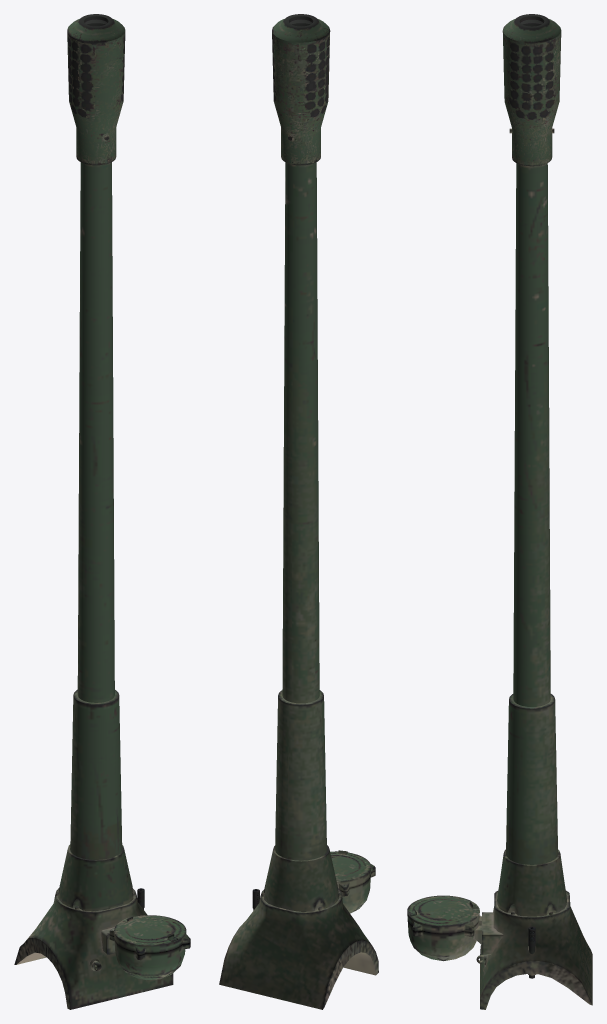
File: Gun_01.glb
3 renders of one model, left to right at view 1: azimuth 30°, elevation 25°; view 2: azimuth 150°, elevation 25°; view 3: azimuth 270°, elevation 25°, orthographic.
Parts seen in each view (by area): view 1: set_0_group_0; view 2: set_0_group_0; view 3: set_0_group_0.
Part boxes in pixels (x1=…): set_0_group_0: x1=14, y1=14, x2=190, y2=1009; set_0_group_0: x1=219, y1=14, x2=378, y2=1009; set_0_group_0: x1=407, y1=14, x2=592, y2=1009.
Size of the model in its own units: 0.5734 by 5.06 by 0.8837.
Materials: 1 (1 with a texture image).
